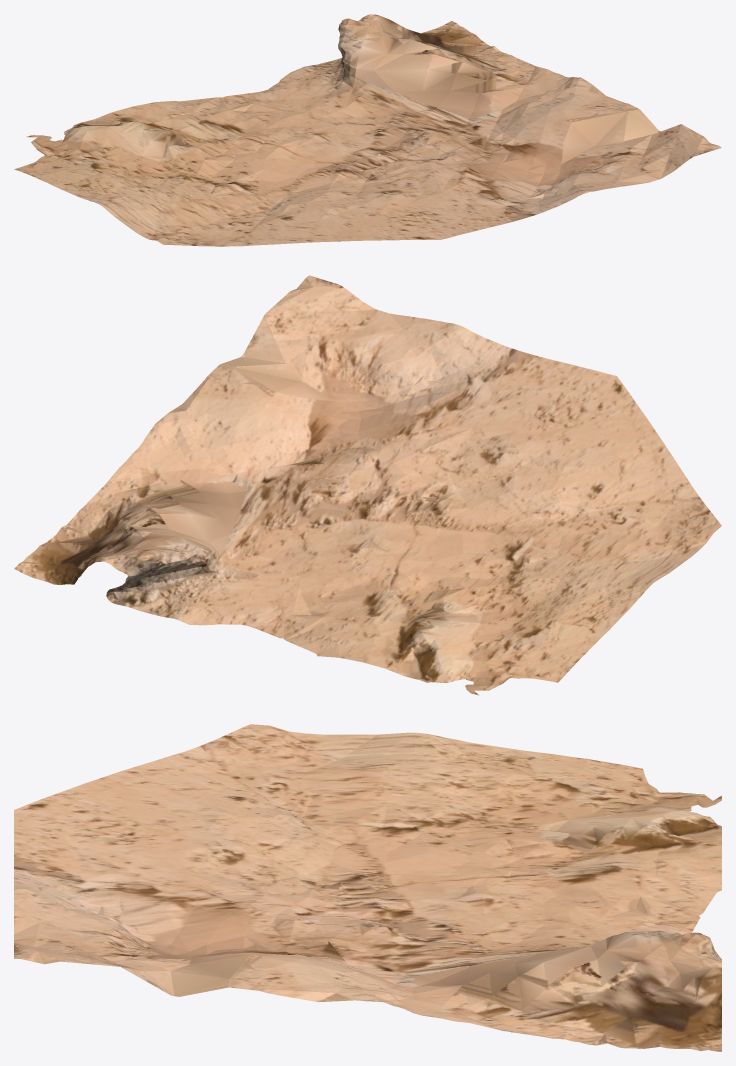
3 renders of one model, top to bottom at view 1: azimuth 30°, elevation 25°; view 2: azimuth 150°, elevation 25°; view 3: azimuth 270°, elevation 25°, orthographic. The views are drawn at different scales.
Size of the model in its own units: 2.09 by 0.3543 by 2.09.
2 materials, 2 textured.
